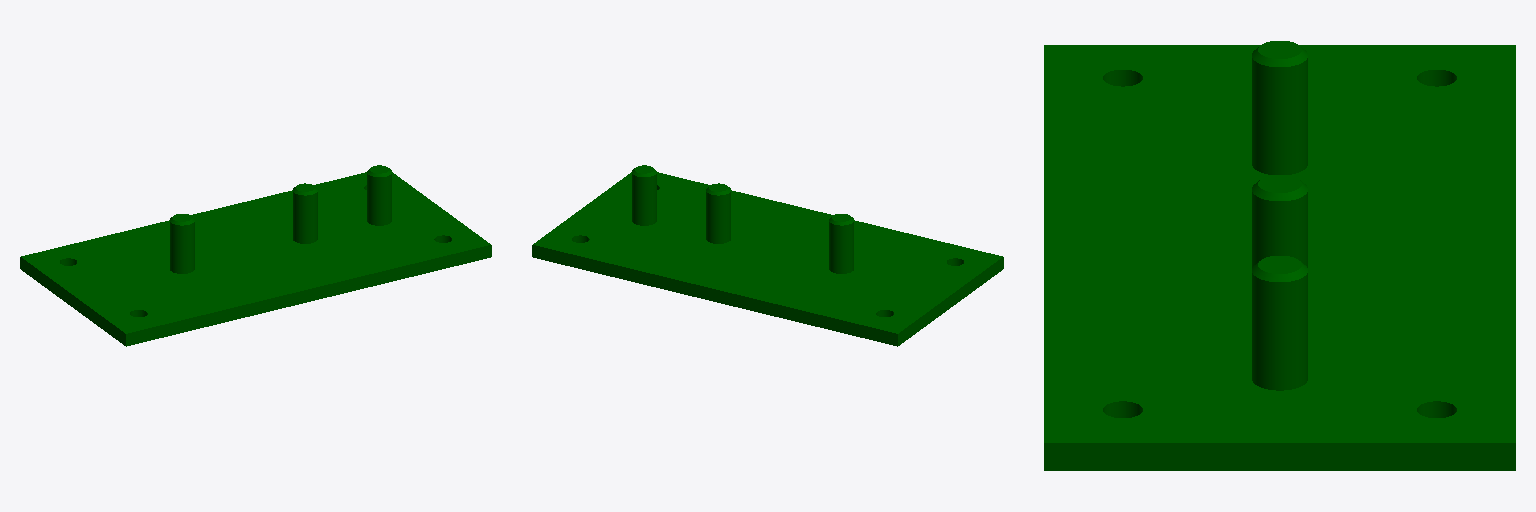
URDF robot description (industreal_gear_base):
<?xml version="1.0"?>
<robot name="industreal_gear_base">
    <link name="industreal_gear_base">
        <visual>
            <geometry>
                <mesh filename="../mesh/TVB_mesh/manifeel_gear_base.obj" scale="1 1 1"/>
            </geometry>
            <!-- <material name="metal_silver">
                <color rgba="0.1 0.1 0.1 1.0"/>
            </material> -->
            <!-- <material name="shaft_copper">
                <color rgba="0.76 0.53 0.25 1.0"/>
            </material> -->
            <material name="DarkGreen">
                <color rgba="0.0 0.4 0.0 1.0"/>
            </material>
        </visual>
        <collision>
            <geometry>
                <mesh filename="../mesh/TVB_mesh/manifeel_gear_base.obj" scale="1 1 1"/>
            </geometry>
            <sdf resolution="64"/>
        </collision>
    </link>
</robot>

--- What the picture shows (computed from the rendered views, not written in the file) ---
The picture shows the robot from 3 angles, left to right: view 1: azimuth 30°, elevation 25°; view 2: azimuth 150°, elevation 25°; view 3: azimuth 270°, elevation 25°; orthographic projection.
Robot: industreal_gear_base — 1 links, 0 joints (none); root link industreal_gear_base; default pose: all joints at 0.
Links seen in each view (by area): view 1: industreal_gear_base; view 2: industreal_gear_base; view 3: industreal_gear_base.
Boxes of the visible links, bbox=[...] form: industreal_gear_base: bbox=[20, 165, 491, 346]; industreal_gear_base: bbox=[532, 165, 1003, 346]; industreal_gear_base: bbox=[1044, 41, 1515, 470].
Size in the robot's own frame: 0.15 by 0.075 by 0.025 metres.
Meshes: 1 distinct files referenced, 1 mesh visuals loaded (1 OBJ).
